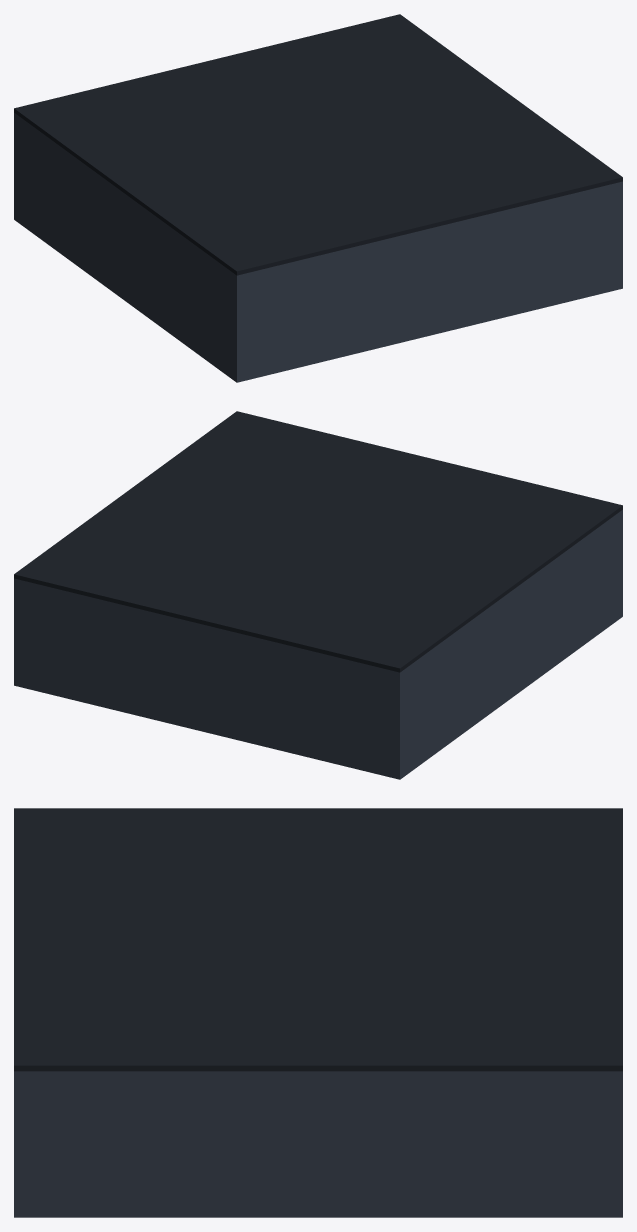
File: hall.glb
The picture shows the model from 3 angles, top to bottom: view 1: azimuth 30°, elevation 25°; view 2: azimuth 150°, elevation 25°; view 3: azimuth 270°, elevation 25°; orthographic projection. The views are drawn at different scales.
Parts seen in each view (by area): view 1: Hall; view 2: Hall; view 3: Hall.
Part boxes in pixels (x1,y1,x2,y2): Hall: [14, 14, 622, 382]; Hall: [14, 411, 622, 779]; Hall: [14, 808, 622, 1217].
Bounding box in the file's own units: 98 × 27.02 × 98.
